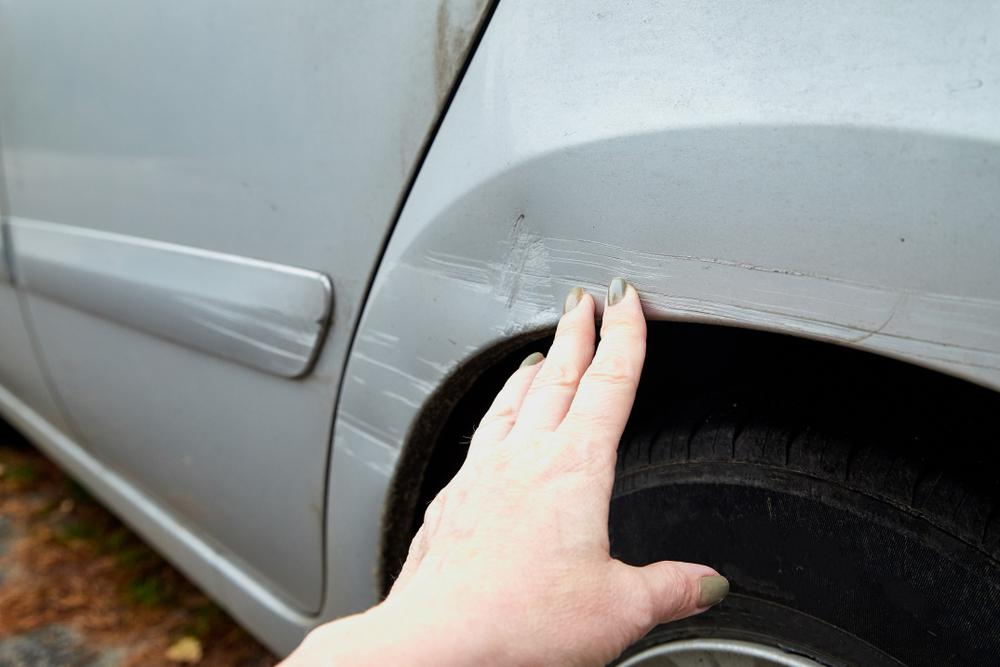dent: (386, 167, 560, 335)
scratch: (556, 229, 1000, 396), (332, 330, 487, 490), (181, 291, 330, 367)
